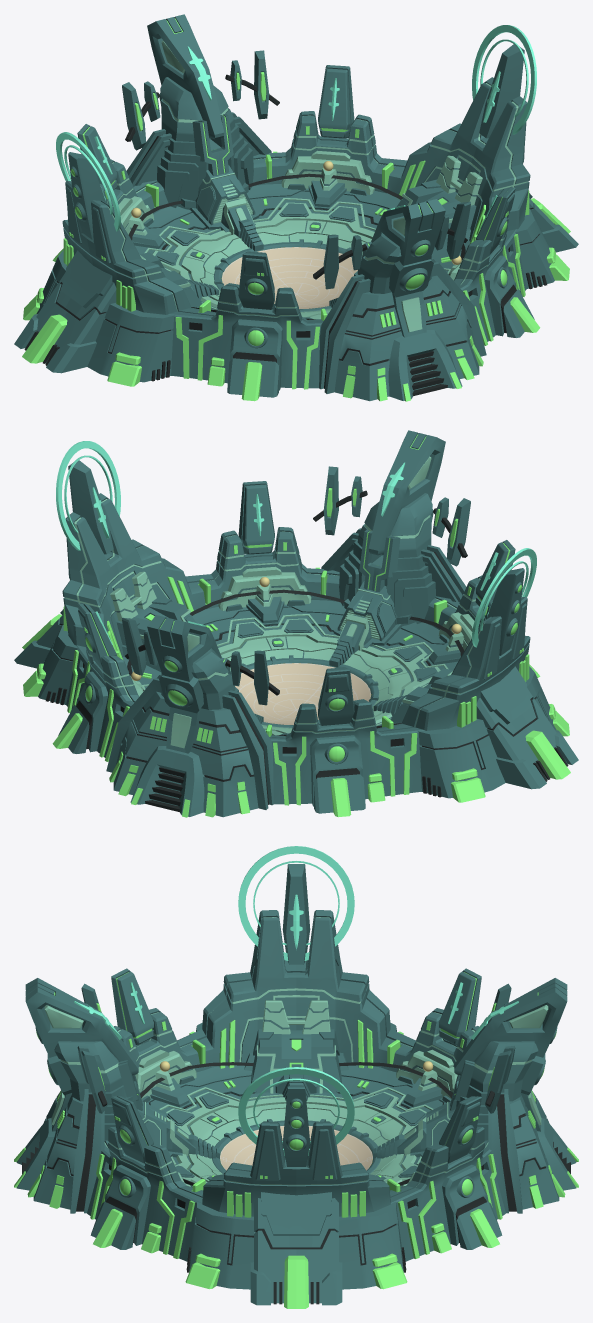
Rendered from arena_beyinterstellardrop.fbx.
The picture shows the model from 3 angles, top to bottom: view 1: azimuth 30°, elevation 25°; view 2: azimuth 150°, elevation 25°; view 3: azimuth 270°, elevation 25°; orthographic projection. The views are drawn at different scales.
Visible parts, largest first — view 1: Arena, Floorlines; view 2: Arena, Floorlines; view 3: Arena, Floorlines.
Boxes of the visible parts, x1,y1,x2,y2 form: Arena: (14,14,578,401); Floorlines: (222,247,357,308); Arena: (14,430,578,817); Floorlines: (235,663,370,724); Arena: (14,846,578,1308); Floorlines: (220,1126,372,1170).
Size of the model in its own units: 78.27 by 32.29 by 69.05.
Materials: 5 (3 with a texture image).
